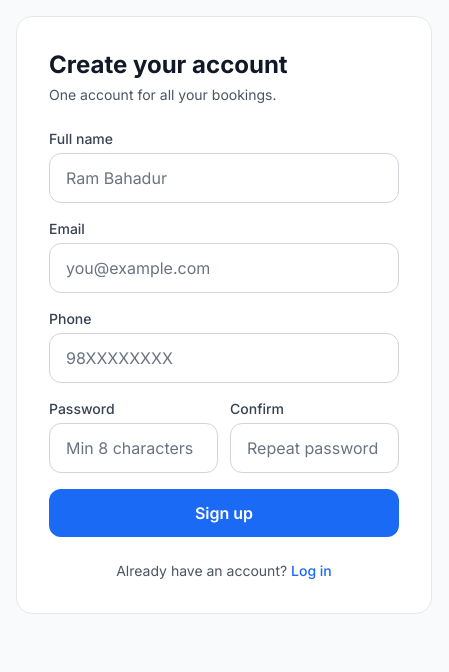
Test case: Register › displays API error on failed registration
Type "Ram" into the field with placeholder "Ram Bahadur" at (224, 178), box [49, 153, 399, 203]
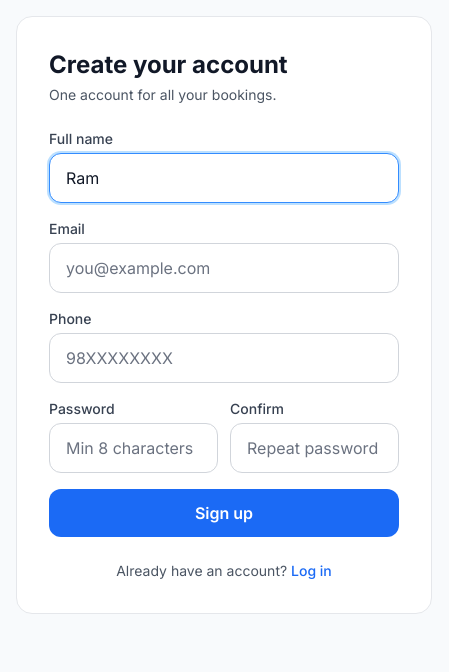
Type "ram@example.com" into the field with placeholder "you@example.com" at (224, 268), box [49, 243, 399, 293]
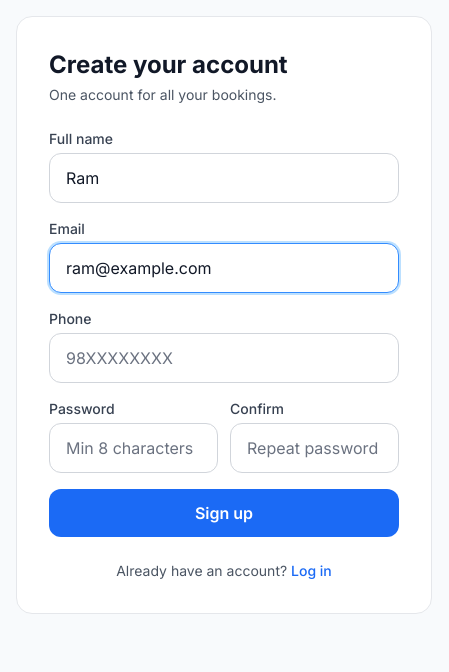
Type "password123" into the password field with placeholder "Min 8 characters" at (134, 448), box [49, 423, 218, 473]
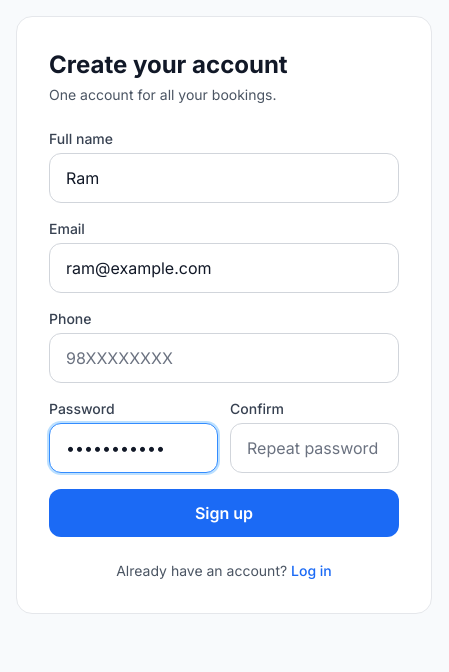
Type "password123" into the password field with placeholder "Repeat password" at (314, 448), box [230, 423, 399, 473]
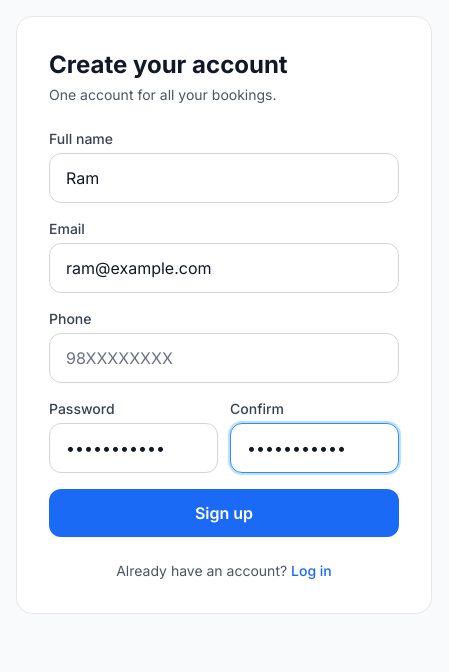
Click the button "Sign up" at (224, 513), box [49, 489, 399, 537]
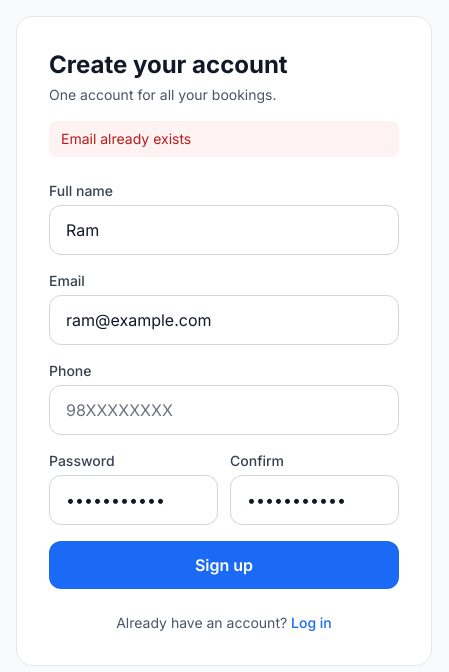
Now the text "Email already exists" is shown, box [49, 121, 399, 157]
